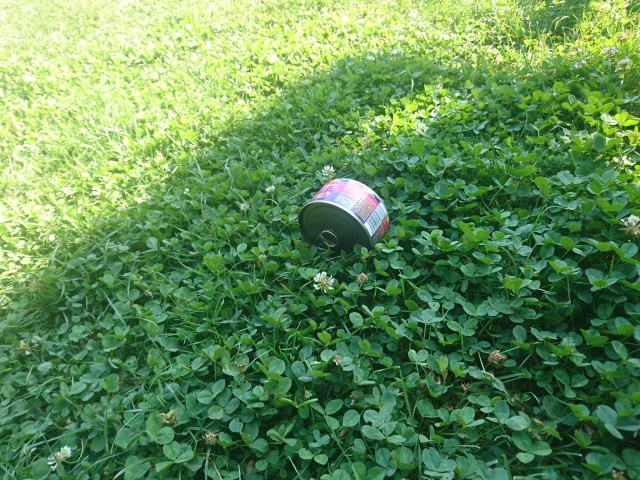Giana Tuna Salad Mexico 185g: (295, 175, 392, 264)
